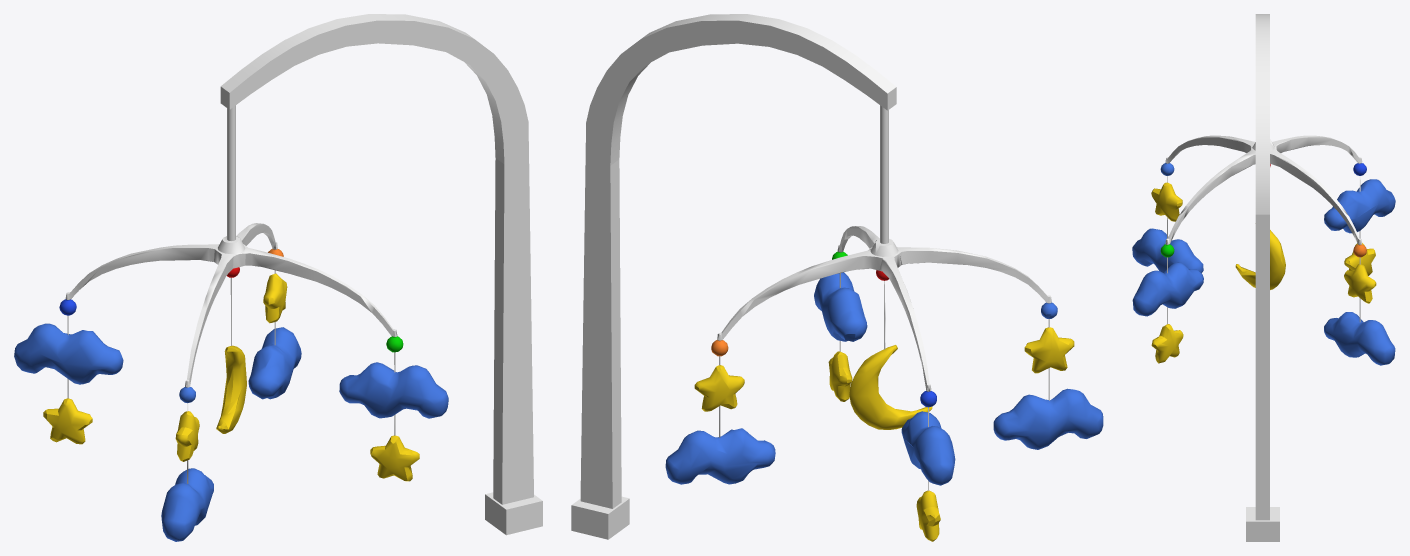
File: Mobile.FBX
3 views of the same model, side by side, from view 1: azimuth 30°, elevation 25°; view 2: azimuth 150°, elevation 25°; view 3: azimuth 270°, elevation 25° (orthographic). The views are drawn at different scales.
Parts seen in each view (by area): view 1: mobile; view 2: mobile; view 3: mobile.
Part boxes in pixels (bbox=[...]): mobile: bbox=[14, 14, 542, 541]; mobile: bbox=[571, 14, 1103, 541]; mobile: bbox=[1132, 14, 1395, 541].
Size of the model in its own units: 48.01 by 56.36 by 30.8.
1 material, 1 textured.
